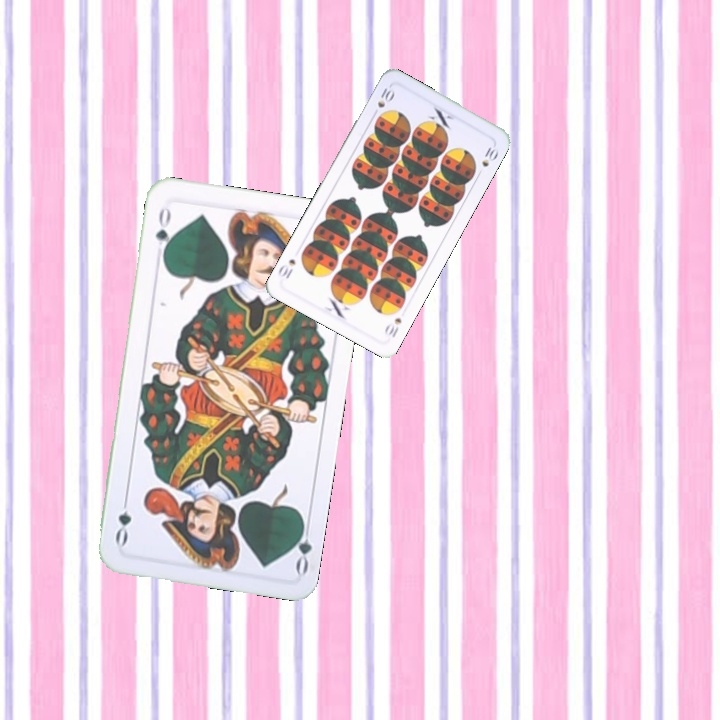GO: (286, 516, 315, 576), (151, 202, 174, 261)
S10: (368, 84, 397, 119), (380, 314, 404, 340)
